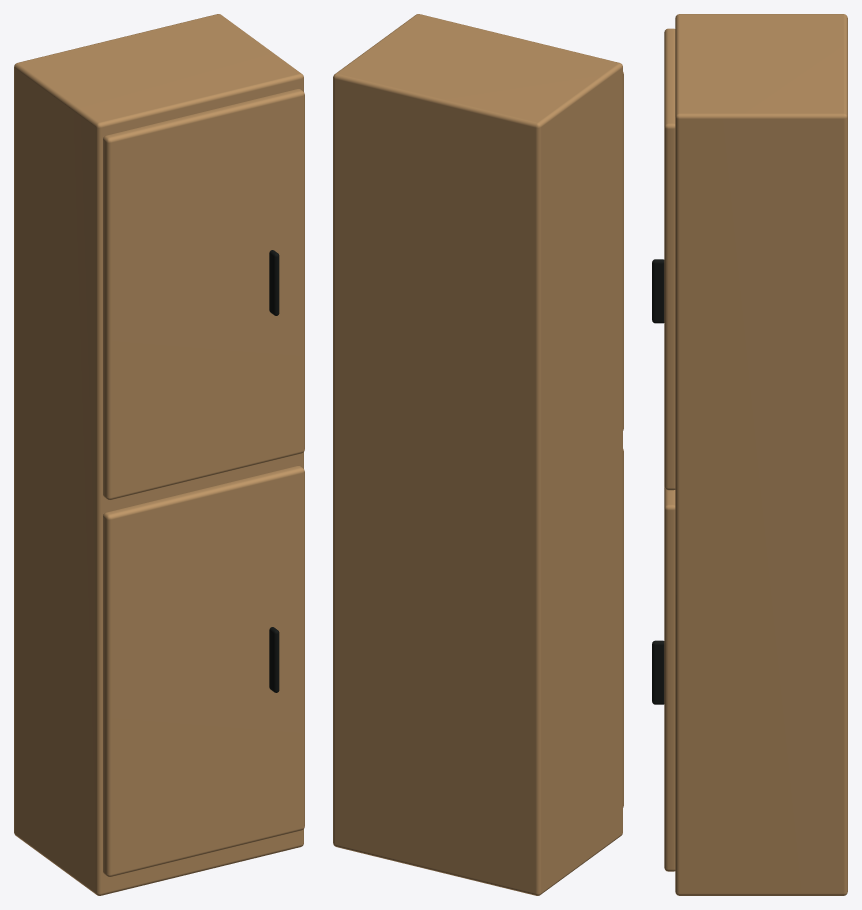
File: tall_cabinet.glb
3 views of the same model, side by side, from view 1: azimuth 30°, elevation 25°; view 2: azimuth 150°, elevation 25°; view 3: azimuth 270°, elevation 25° (orthographic).
Parts seen in each view (by area): view 1: Cabinet, Door front, Door front.001, Handle, Handle.001; view 2: Cabinet; view 3: Cabinet, Door front.001, Door front, Handle.001, Handle.
Boxes of the visible parts, x1=… form: Cabinet: x1=14, y1=14, x2=303, y2=895; Door front: x1=103, y1=465, x2=304, y2=876; Door front.001: x1=103, y1=89, x2=304, y2=499; Handle: x1=269, y1=627, x2=279, y2=692; Handle.001: x1=269, y1=250, x2=279, y2=315; Cabinet: x1=333, y1=14, x2=622, y2=895; Cabinet: x1=675, y1=14, x2=847, y2=895; Door front.001: x1=664, y1=28, x2=675, y2=490; Door front: x1=664, y1=487, x2=675, y2=871; Handle.001: x1=652, y1=259, x2=664, y2=323; Handle: x1=652, y1=640, x2=664, y2=704.
Size of the model in its own units: 0.45 by 1.6 by 0.363.
